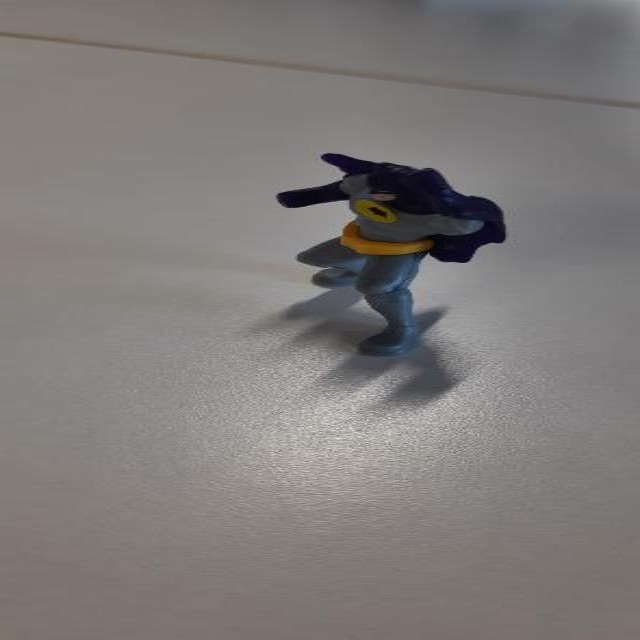Batman: (236, 142, 536, 390)
